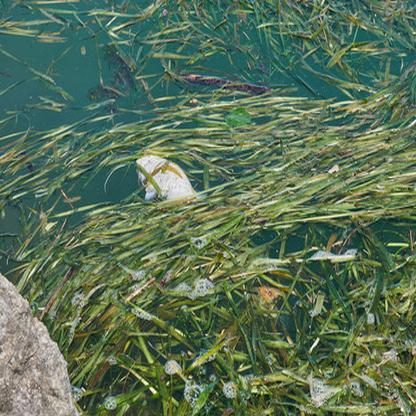deceased fish: (135, 154, 203, 225)
